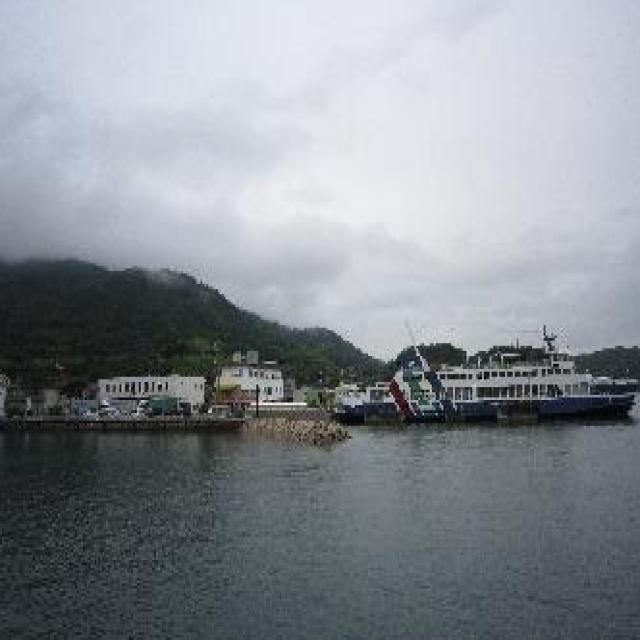passenger ship: (341, 309, 611, 425)
